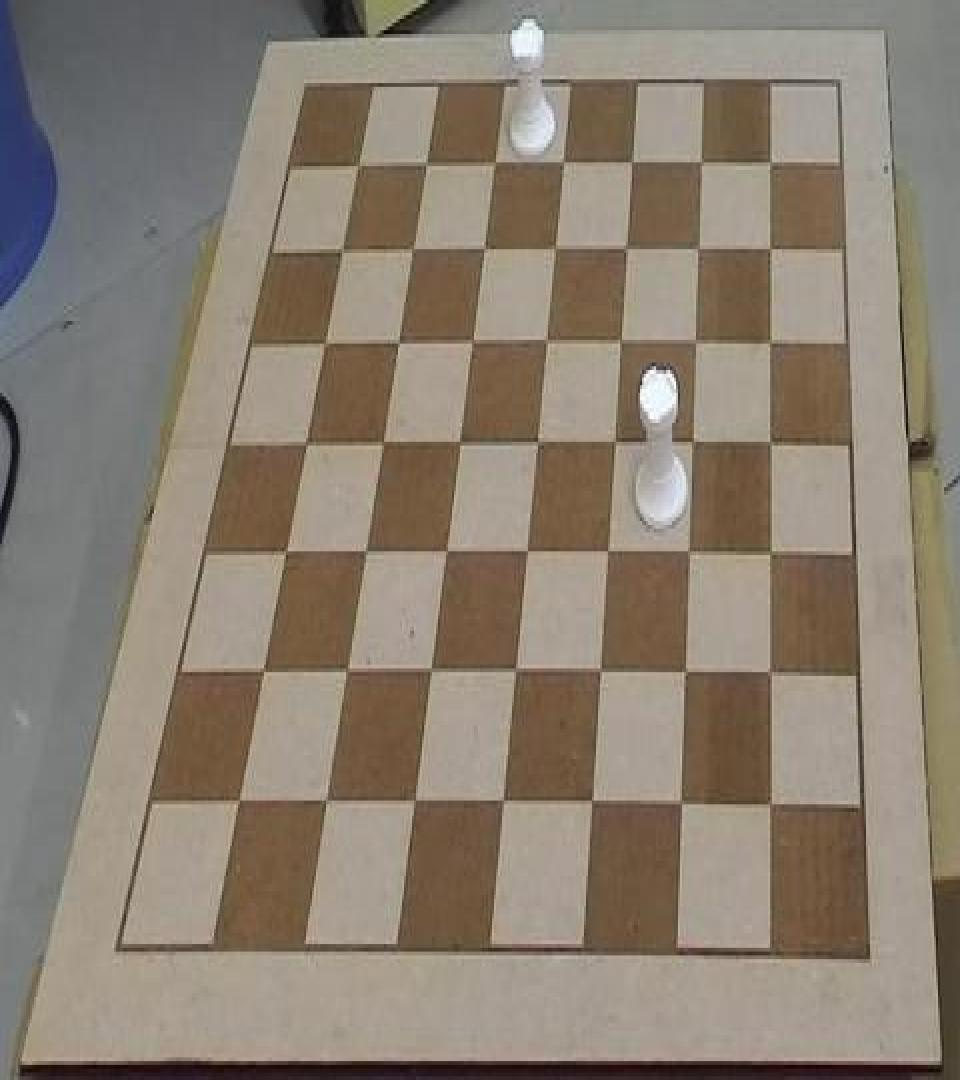xcorner: (762, 146, 782, 184), (693, 146, 713, 184), (624, 146, 644, 184), (555, 147, 575, 185), (486, 147, 506, 185), (418, 147, 438, 185), (351, 147, 371, 185), (762, 230, 782, 268), (690, 230, 710, 268), (618, 232, 638, 270), (547, 232, 567, 270), (475, 232, 495, 270), (405, 232, 425, 270), (334, 232, 354, 270), (762, 324, 782, 362), (687, 324, 707, 362), (612, 324, 632, 362), (538, 324, 558, 362), (464, 324, 484, 362), (390, 324, 410, 362), (317, 324, 337, 362), (762, 424, 782, 462), (684, 424, 704, 462), (606, 424, 626, 462), (528, 424, 548, 462), (451, 424, 471, 462), (374, 424, 394, 462), (297, 424, 317, 462), (763, 536, 783, 574), (680, 536, 700, 574), (599, 536, 619, 574), (517, 536, 537, 574), (437, 534, 457, 572), (356, 534, 376, 572), (277, 534, 297, 572), (763, 659, 783, 697), (677, 657, 697, 695), (591, 657, 611, 695), (506, 655, 526, 693), (421, 655, 441, 693), (337, 653, 357, 691), (254, 653, 274, 691), (763, 793, 783, 831), (672, 791, 692, 829), (582, 789, 602, 827), (493, 789, 513, 827), (404, 787, 424, 825), (316, 786, 336, 824), (229, 786, 249, 824)
